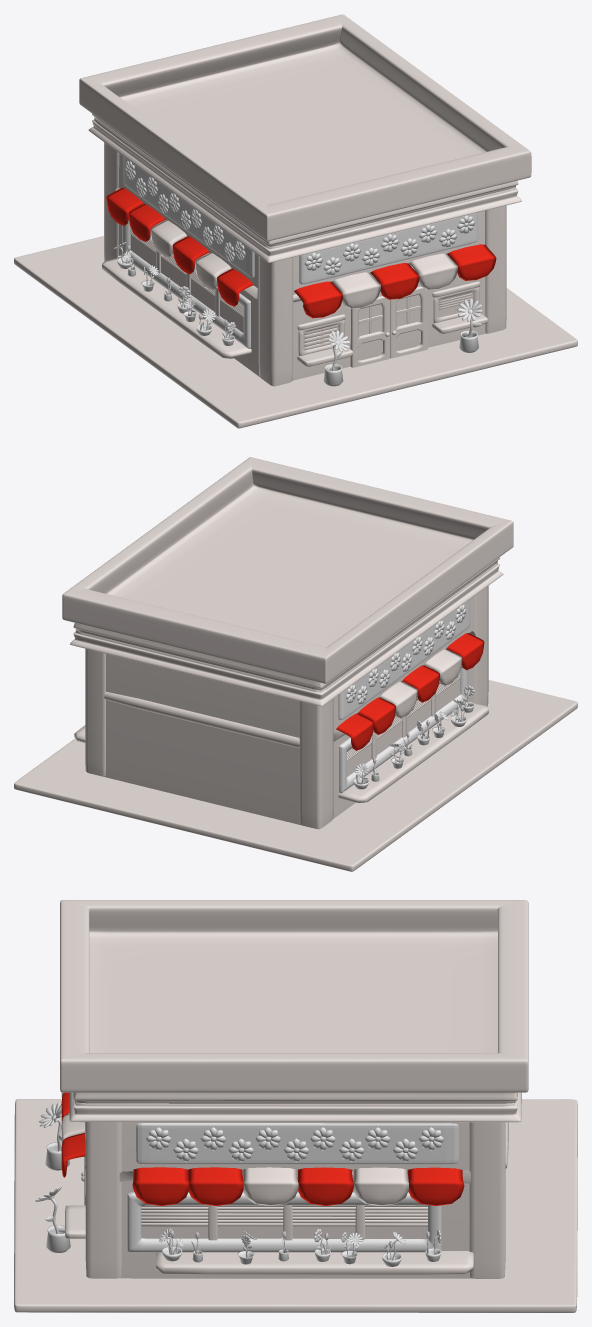
The model's file is floristeria.fbx.
The picture shows the model from 3 angles, top to bottom: view 1: azimuth 30°, elevation 25°; view 2: azimuth 150°, elevation 25°; view 3: azimuth 270°, elevation 25°; orthographic projection. The views are drawn at different scales.
Visible parts, largest first — view 1: Cube.106, Cube.057, Cube.076, Cube.077, Cube.055, Cube.105, Cube.104, Cube.056, Cube.107, Cube.078, Cube.086, BezierCurve.005 (+11 smaller); view 2: Cube.106, Cube.076, Cube.057, Cube.077, Cube.104, Cube.054, Cube.055, Cube.078, Cube.107, Cube.086, Cylinder.006, Cube.103 (+2 smaller); view 3: Cube.106, Cube.057, Cube.085, Cube.055, Cube.076, Cube.087, Cube.077, Cube.100, Cube.092, Cube.091, Cube.078, BezierCurve.012 (+4 smaller).
Boxes of the visible parts, box(x1,y1,x2,y2) form: Cube.106: box(79, 14, 531, 241); Cube.057: box(14, 236, 577, 428); Cube.076: box(119, 153, 486, 380); Cube.077: box(88, 118, 521, 262); Cube.055: box(258, 205, 506, 386); Cube.105: box(294, 244, 496, 318); Cube.104: box(106, 188, 253, 306); Cube.056: box(299, 212, 477, 284); Cube.107: box(102, 256, 251, 358); Cube.078: box(92, 113, 518, 246); Cube.086: box(123, 156, 254, 277); BezierCurve.005: box(304, 215, 474, 275); Cube.106: box(62, 457, 513, 683); Cube.076: box(104, 597, 473, 829); Cube.057: box(14, 680, 577, 871); Cube.077: box(70, 562, 503, 706); Cube.104: box(336, 633, 484, 750); Cube.054: box(299, 699, 333, 828); Cube.055: box(85, 586, 488, 776); Cube.078: box(73, 557, 499, 690); Cube.107: box(338, 702, 488, 802); Cube.086: box(338, 599, 470, 720); Cylinder.006: box(104, 631, 475, 748); Cube.103: box(339, 665, 468, 793); Cube.106: box(60, 900, 528, 1092); Cube.057: box(14, 1099, 577, 1312); Cube.085: box(132, 1167, 464, 1205); Cube.055: box(85, 1122, 505, 1278); Cube.076: box(118, 1122, 502, 1278); Cube.087: box(136, 1123, 458, 1164); Cube.077: box(69, 1092, 521, 1122); Cube.100: box(156, 1251, 473, 1274); Cube.092: box(127, 1192, 441, 1252); Cube.091: box(141, 1205, 427, 1226); Cube.078: box(73, 1092, 517, 1103); BezierCurve.012: box(146, 1127, 444, 1162).
Bounding box in the file's own units: 944 × 510 × 1084.
